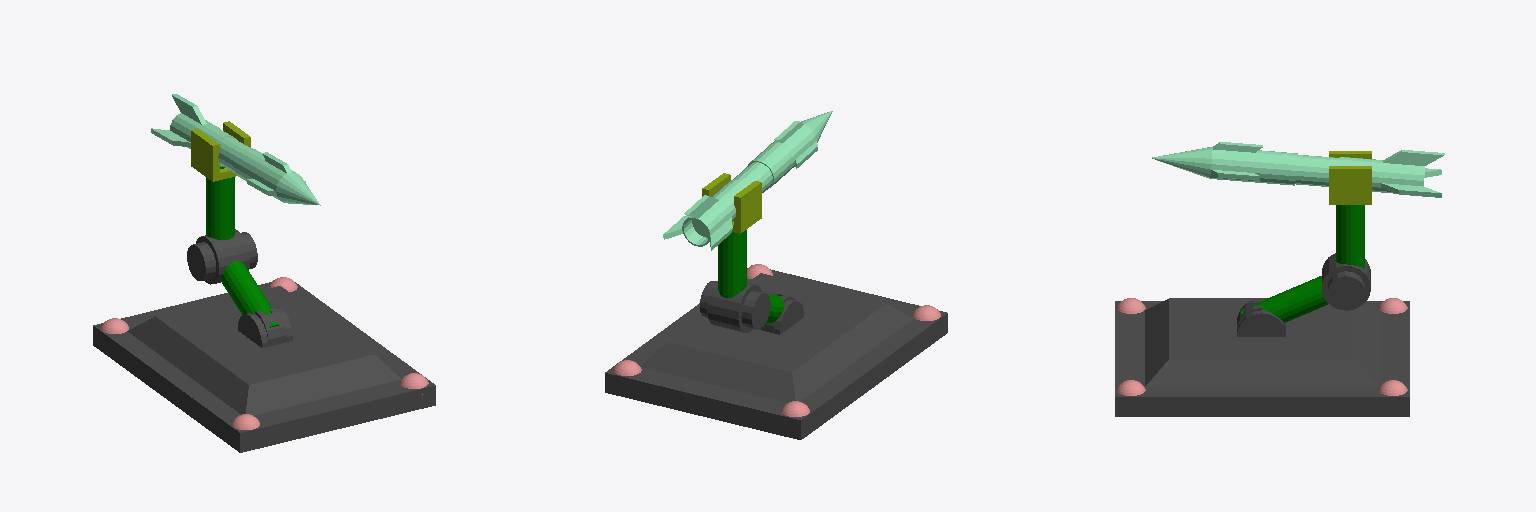
File: RemoteMissile.obj
3 renders of one model, left to right at view 1: azimuth 30°, elevation 25°; view 2: azimuth 150°, elevation 25°; view 3: azimuth 270°, elevation 25°, orthographic.
Parts seen in each view (by area): view 1: Box001, Cylinder005, Cylinder003, Cylinder004, C_Ext001, Cylinder001, Cylinder002; view 2: Box001, Cylinder005, Cylinder003, Cylinder004, C_Ext001, Cylinder002; view 3: Box001, Cylinder005, Cylinder003, C_Ext001, Cylinder004, Cylinder001, Cylinder002.
Boxes of the visible parts, <box> form: Box001: <box>93,282,435,452</box>; Cylinder005: <box>151,94,320,205</box>; Cylinder003: <box>187,229,257,284</box>; Cylinder004: <box>206,166,234,239</box>; C_Ext001: <box>191,121,250,181</box>; Cylinder001: <box>221,261,279,327</box>; Cylinder002: <box>238,307,292,347</box>; Box001: <box>605,265,947,439</box>; Cylinder005: <box>663,111,832,250</box>; Cylinder003: <box>700,281,770,332</box>; Cylinder004: <box>718,230,746,297</box>; C_Ext001: <box>702,173,761,233</box>; Cylinder002: <box>760,292,803,334</box>; Box001: <box>1115,298,1409,416</box>; Cylinder005: <box>1152,142,1444,197</box>; Cylinder003: <box>1322,253,1370,310</box>; C_Ext001: <box>1329,151,1371,204</box>; Cylinder004: <box>1336,205,1364,267</box>; Cylinder001: <box>1241,276,1327,322</box>; Cylinder002: <box>1237,298,1285,336</box>.
Bounding box in the file's own units: 28.55 × 31.45 × 41.51.